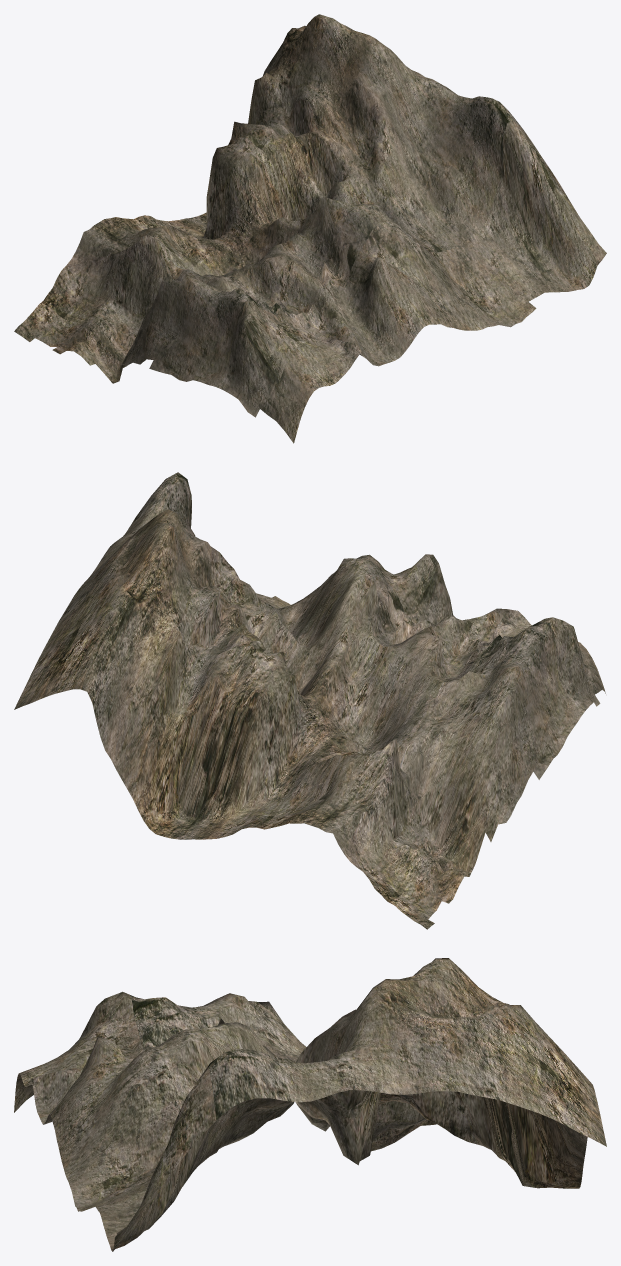
Rendered from Montanha.fbx.
3 renders of one model, top to bottom at view 1: azimuth 30°, elevation 25°; view 2: azimuth 150°, elevation 25°; view 3: azimuth 270°, elevation 25°, orthographic. The views are drawn at different scales.
Parts seen in each view (by area): view 1: pPlane8; view 2: pPlane8; view 3: pPlane8.
Boxes of the visible parts, <box> form: pPlane8: <box>14,14,606,443</box>; pPlane8: <box>14,472,605,929</box>; pPlane8: <box>14,958,606,1251</box>.
Bounding box in the file's own units: 156 × 102 × 167.
